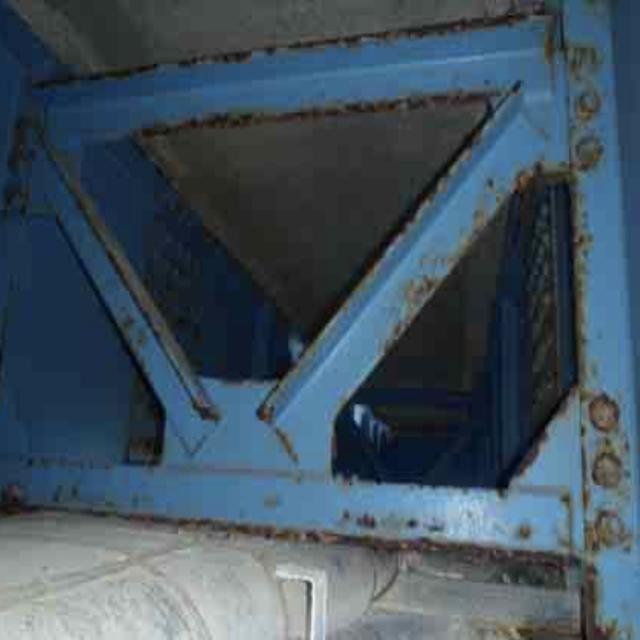corrosion: (34, 43, 639, 563)
